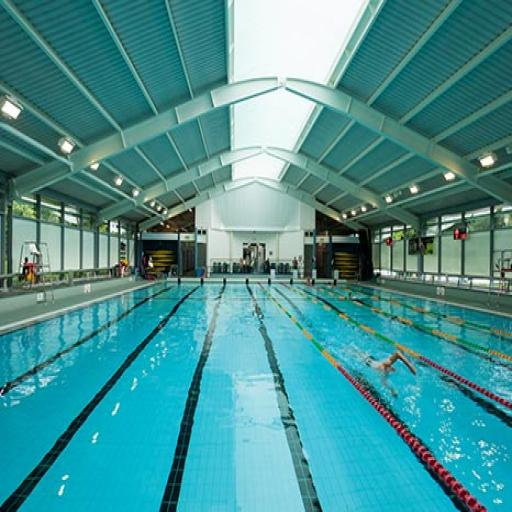swimming: (359, 346, 420, 400)
